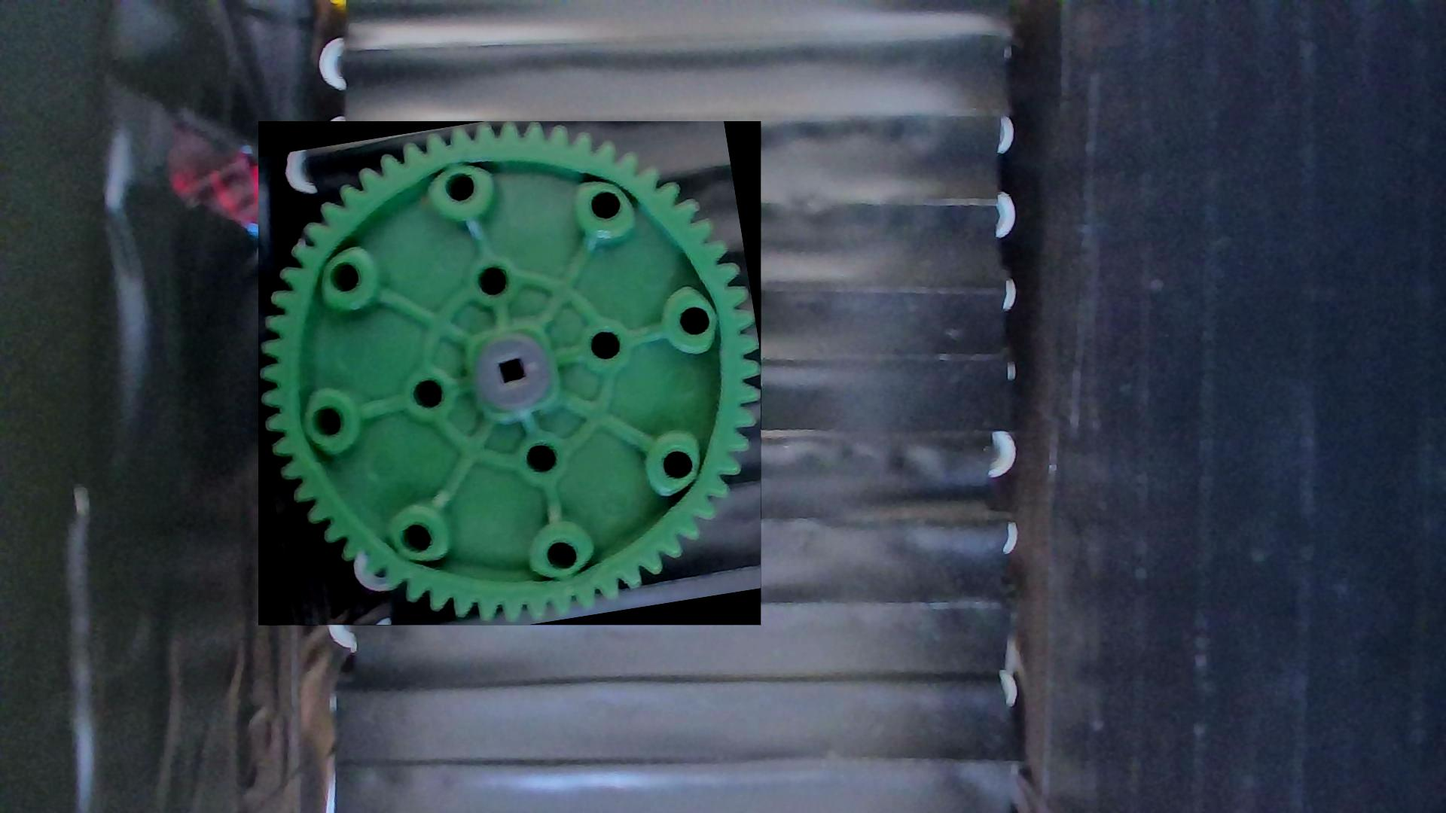gear: (259, 122, 762, 626)
